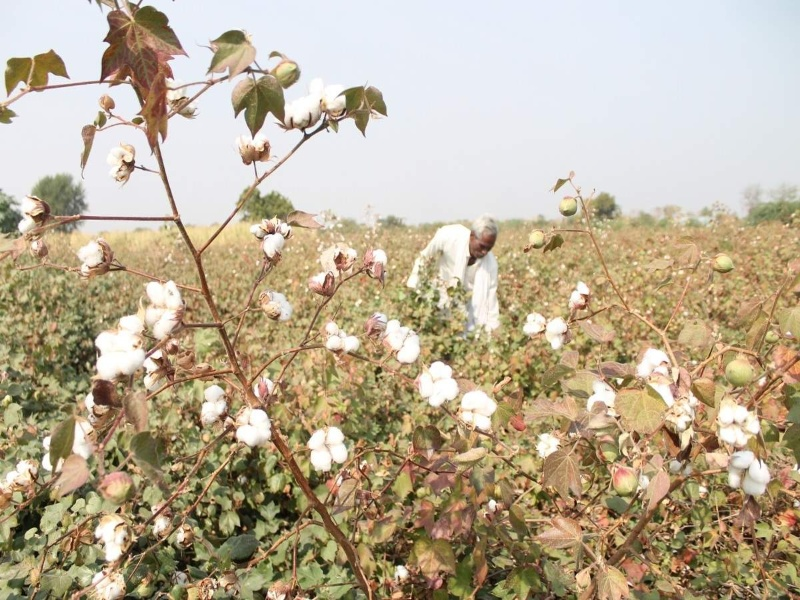cotton: (10, 70, 360, 600), (519, 265, 772, 512), (373, 315, 506, 478)
